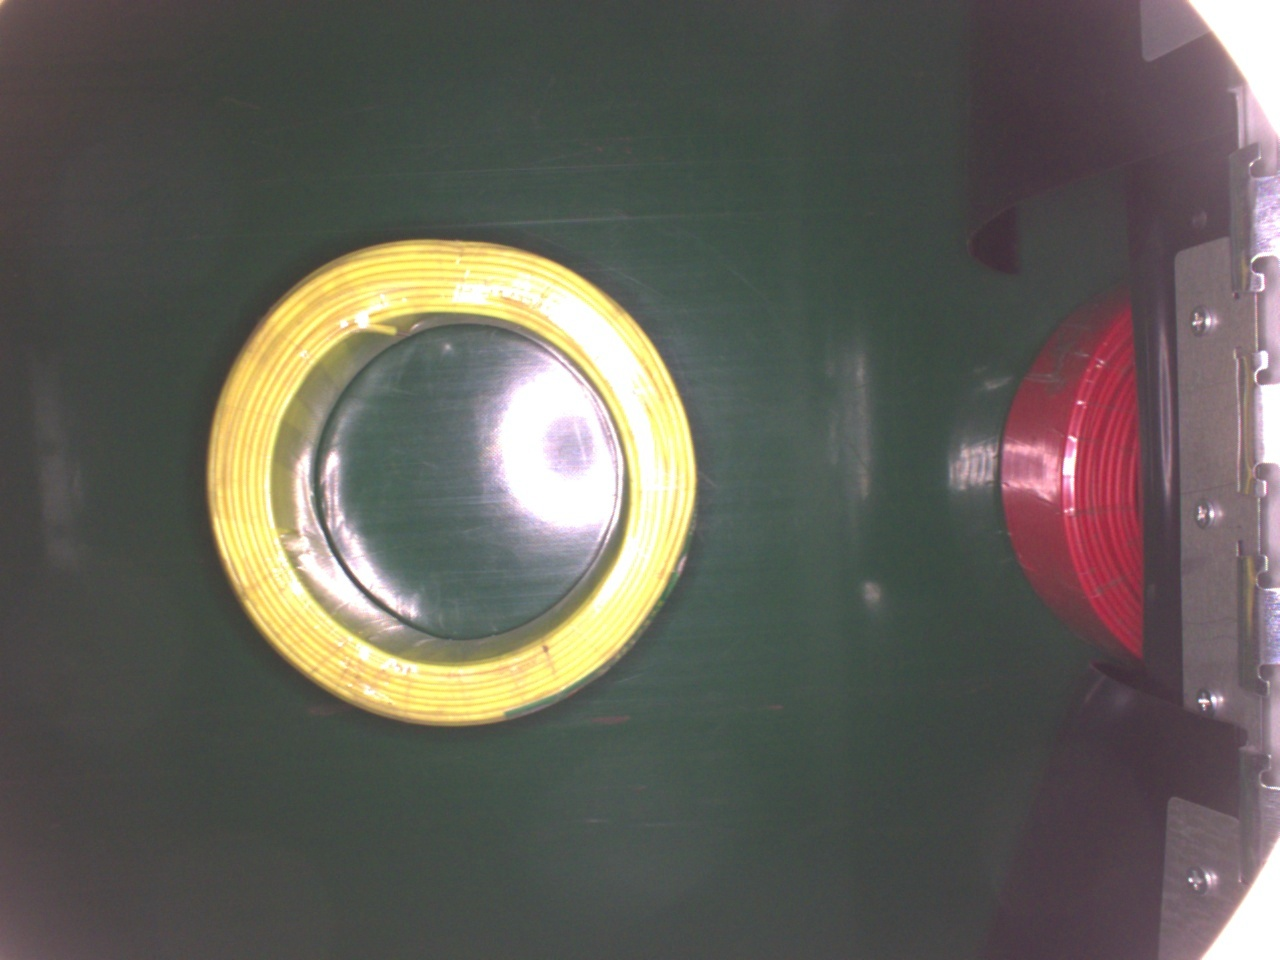yellow: (208, 235, 701, 730)
